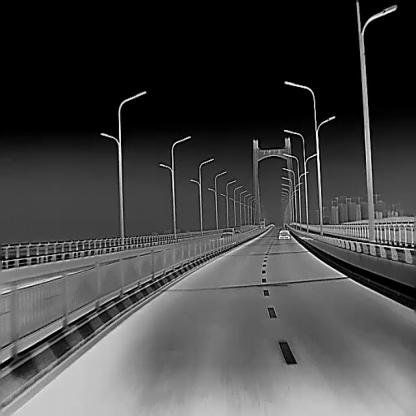bus: (260, 217, 264, 227)
car: (277, 227, 290, 239), (220, 228, 233, 235), (233, 227, 240, 233)
